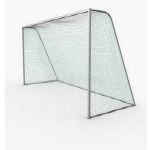goals: (17, 4, 138, 120)
